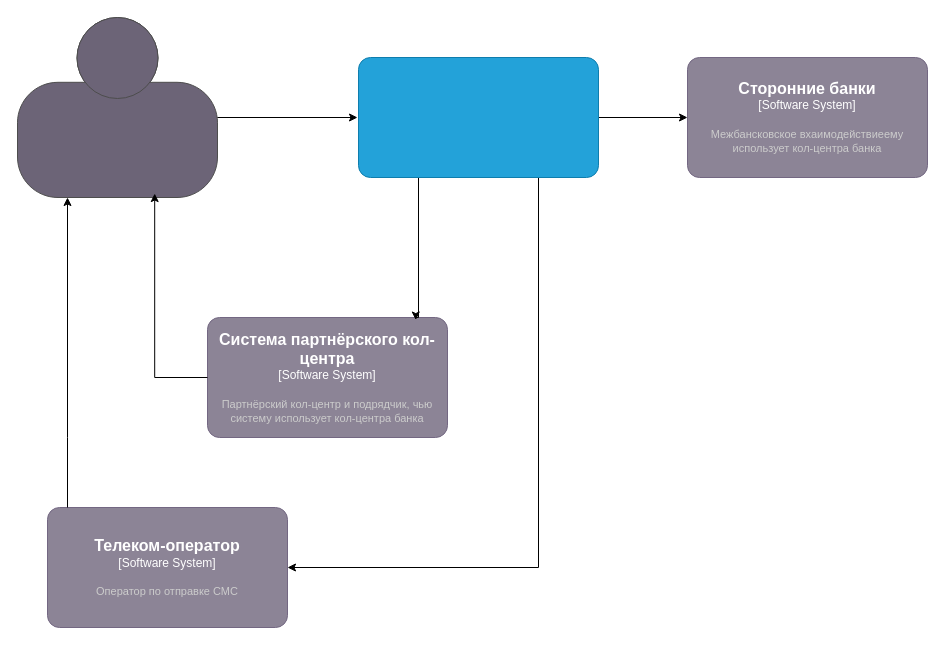
This 945x645 diagram has some shape labels left out. Here are the shapes that lost their labels. From the top down, the centre of each, then its label:
(x=117, y=107): Клиент [Person]
(x=478, y=117): Bank [Software System: ] Банк предоставляет услуги открытия депозитов
